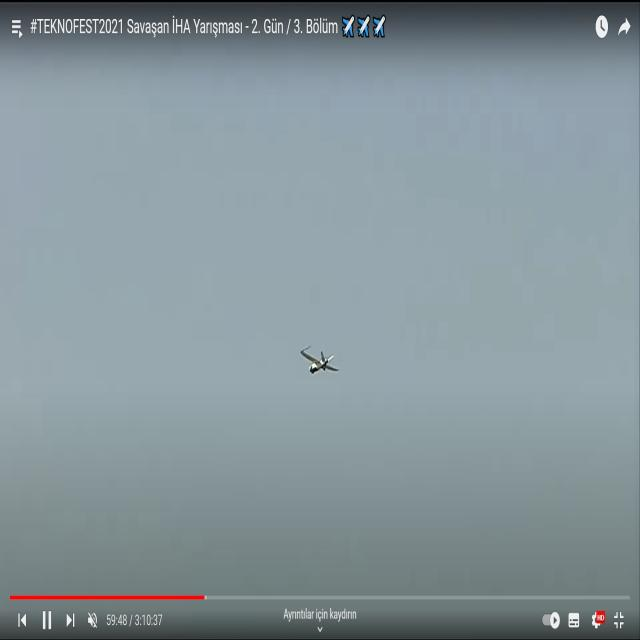iha: (300, 346, 340, 376)
